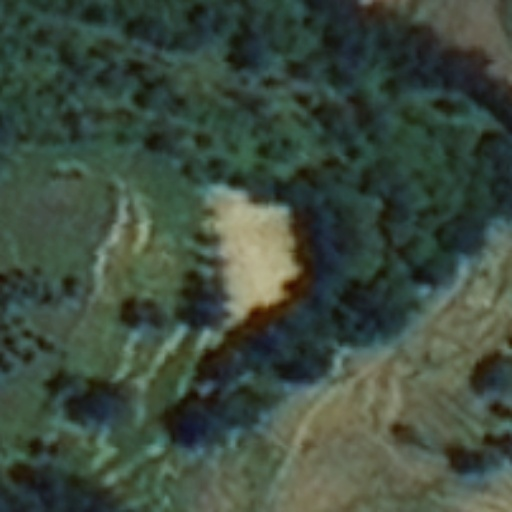landslide: (197, 182, 300, 324)
